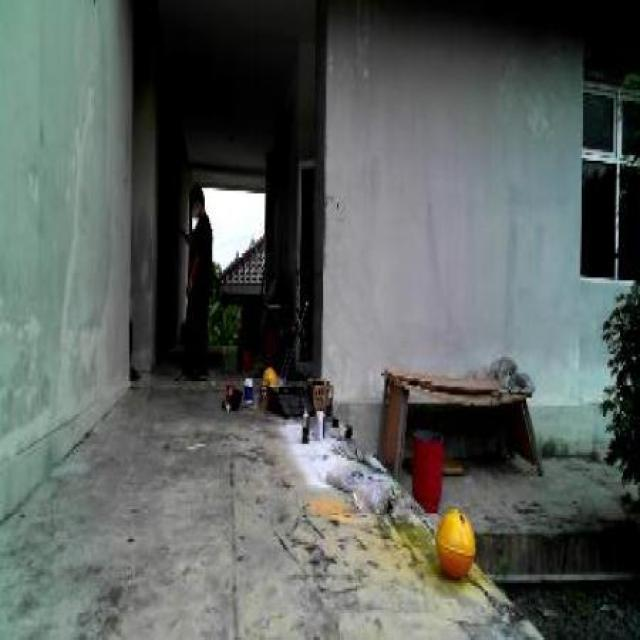buoy: (426, 494, 484, 590), (254, 352, 284, 392)
